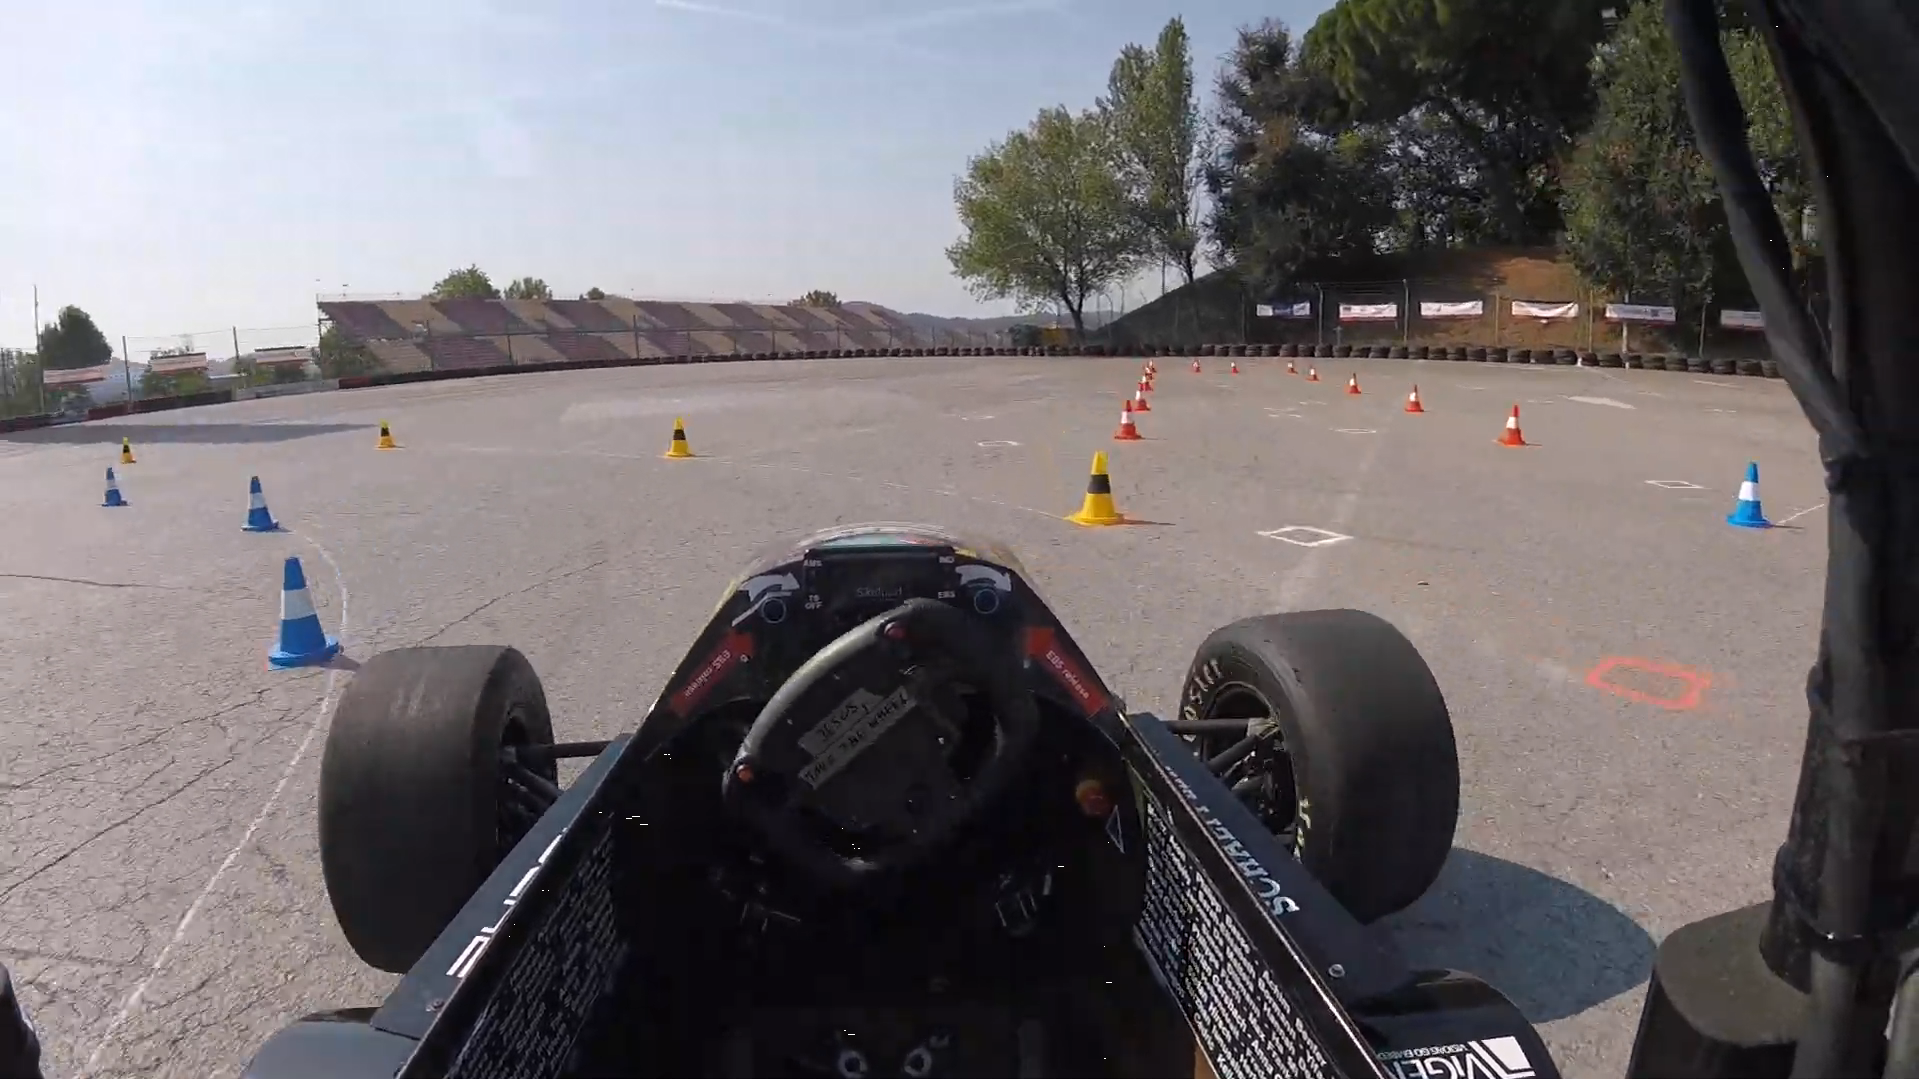cone-blue: (268, 557, 340, 668), (1727, 460, 1774, 528), (241, 476, 281, 532), (101, 466, 128, 507)
cone-orange: (1496, 404, 1528, 447), (1114, 399, 1143, 440), (1404, 383, 1425, 412), (1132, 383, 1151, 411), (1344, 372, 1361, 393), (1137, 373, 1152, 393), (1306, 364, 1321, 381), (1143, 366, 1155, 379), (1285, 358, 1296, 373), (1228, 360, 1239, 373), (1147, 358, 1156, 373), (1191, 358, 1201, 372)
cone-yellow: (1064, 451, 1130, 526), (666, 418, 696, 458), (376, 419, 398, 449), (119, 436, 137, 464)
